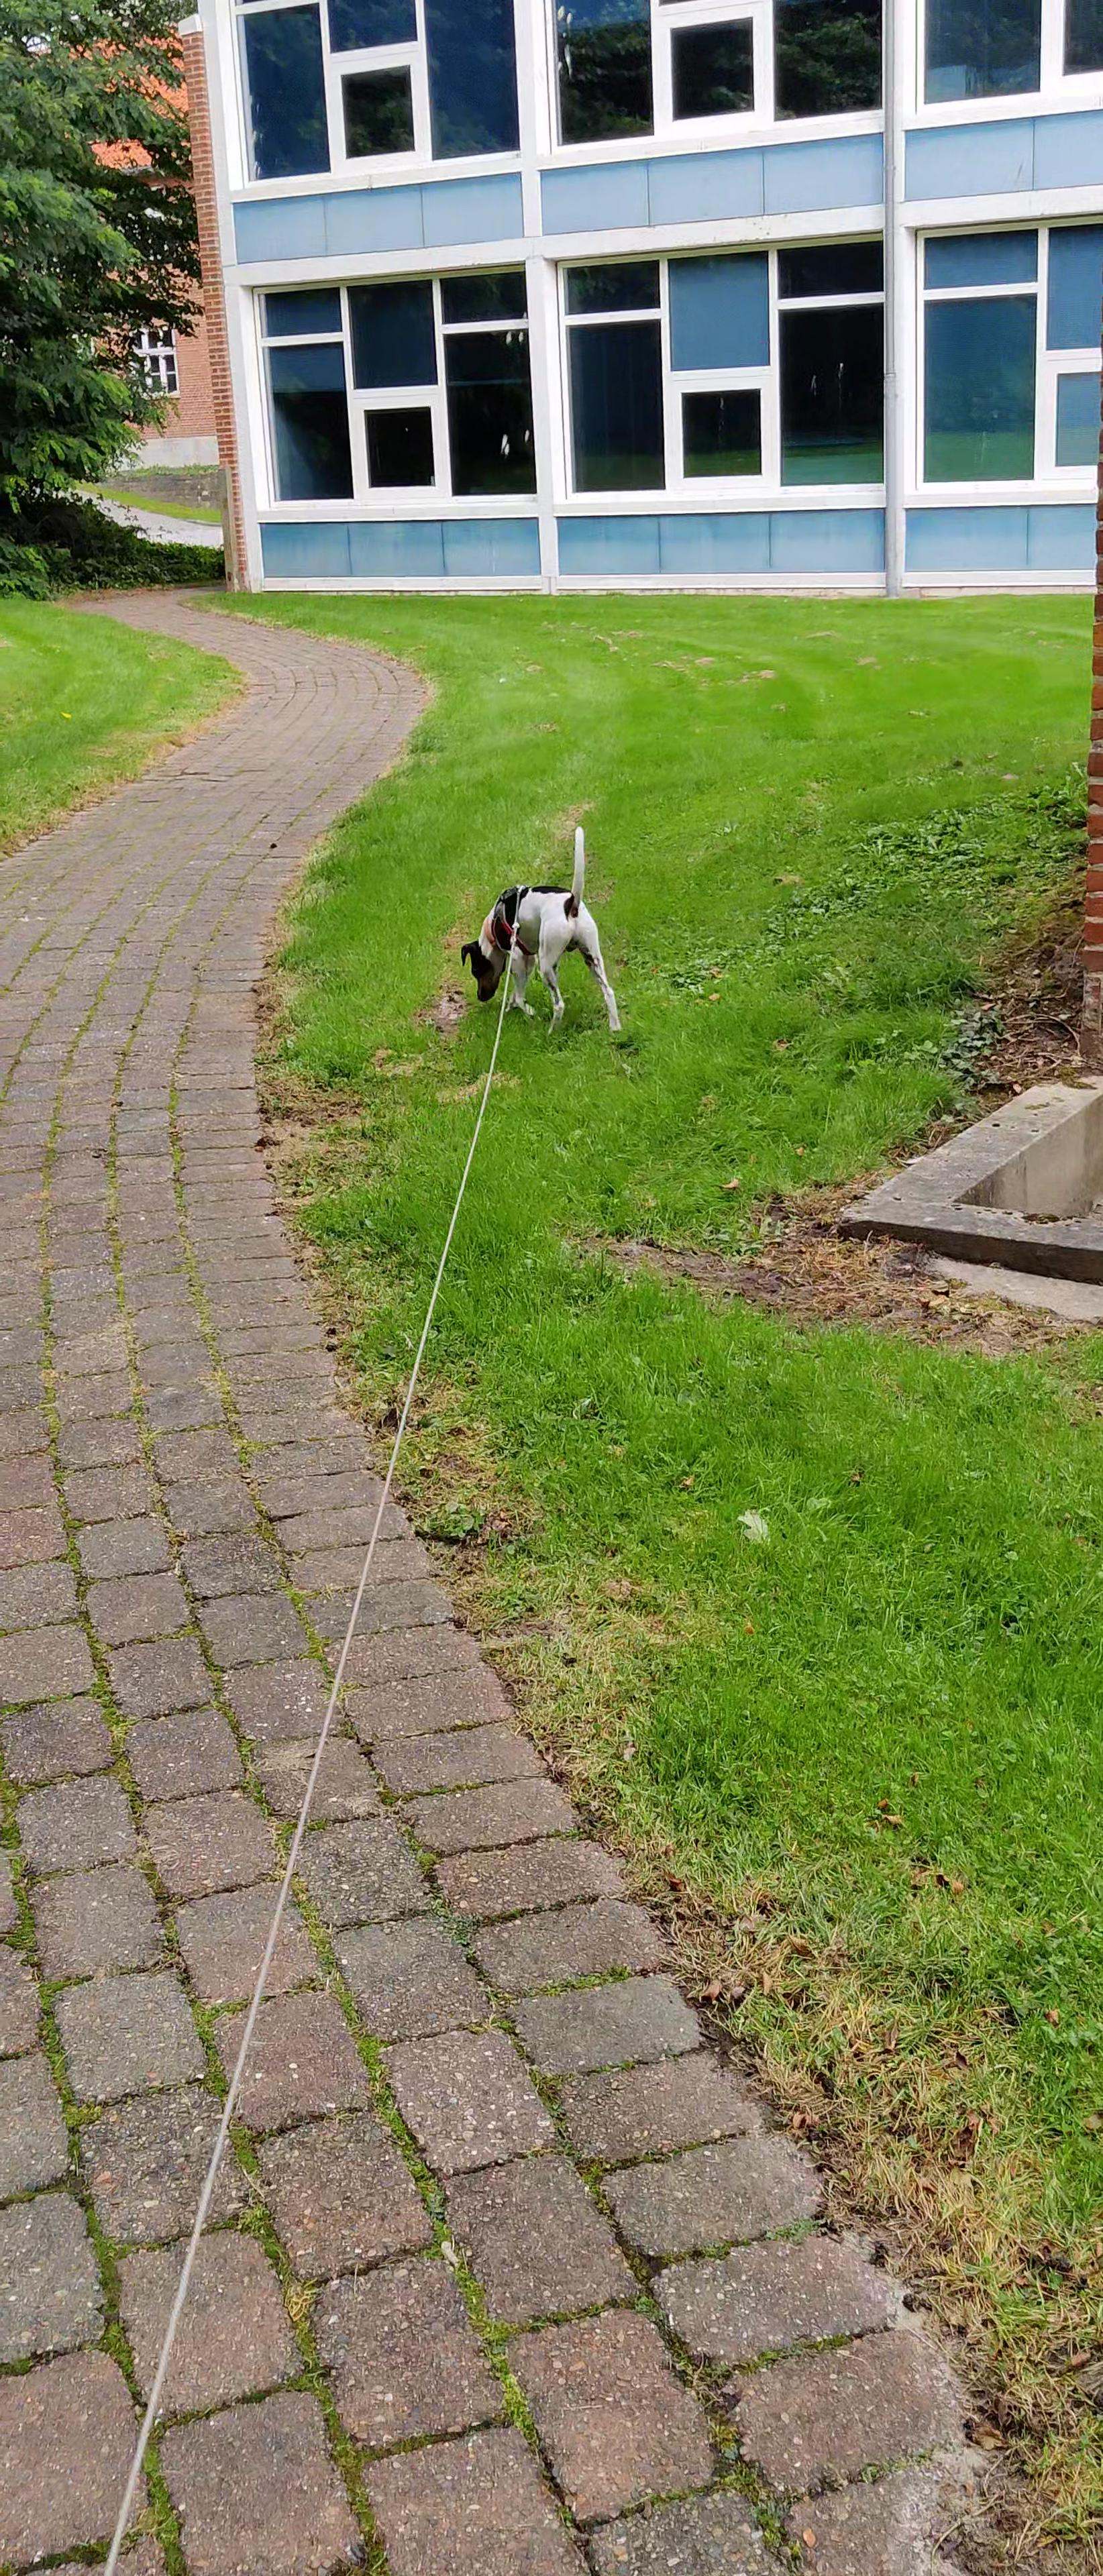Dog: (457, 823, 623, 1038)
